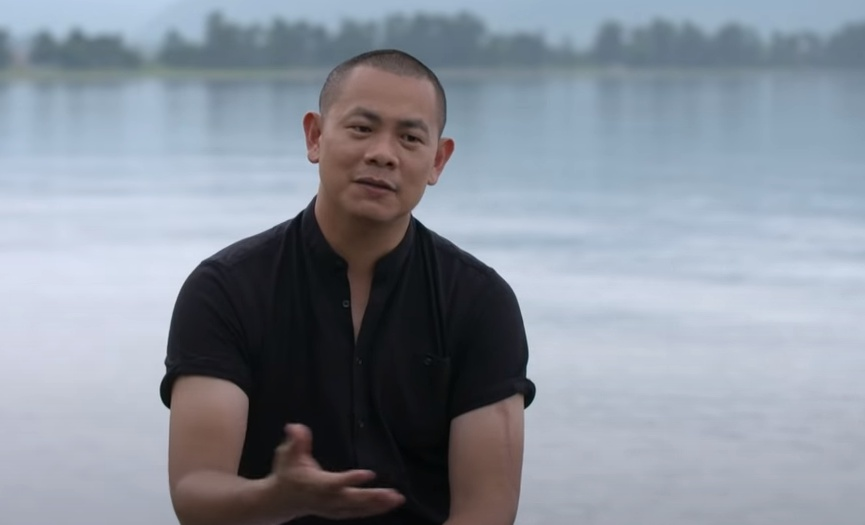mouth: (350, 175, 396, 196)
nose: (362, 149, 400, 170)
